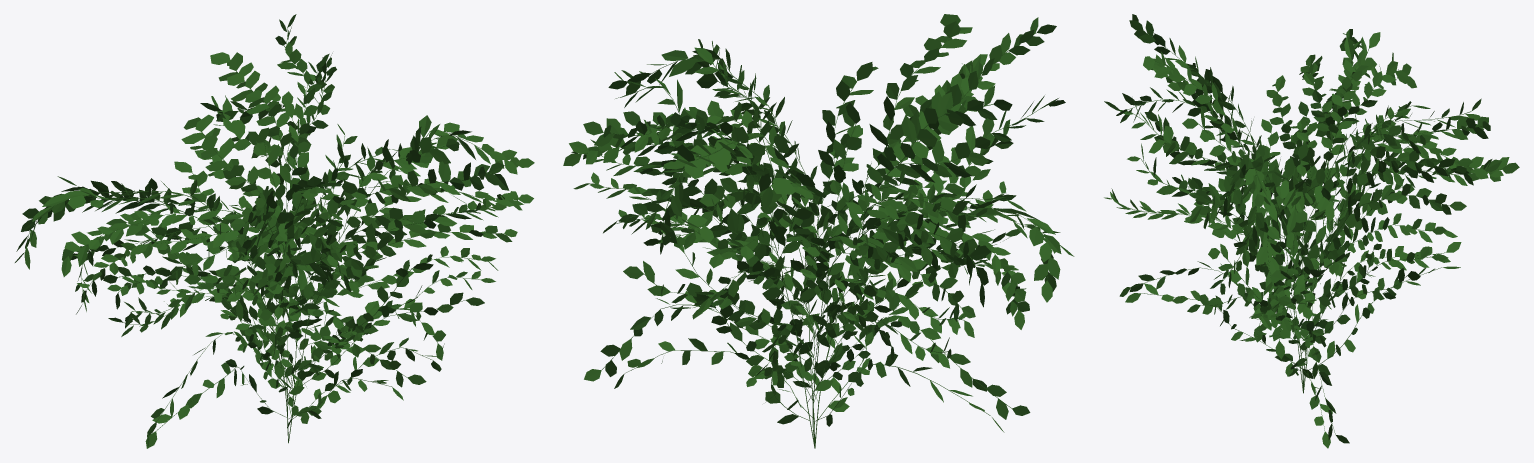
File: StressBush.fbx
The picture shows the model from 3 angles, left to right: view 1: azimuth 30°, elevation 25°; view 2: azimuth 150°, elevation 25°; view 3: azimuth 270°, elevation 25°; orthographic projection. The views are drawn at different scales.
Visible parts, largest first — view 1: StressBush; view 2: StressBush; view 3: StressBush.
Boxes of the visible parts, x1,y1,x2,y2 form: StressBush: (15,14,534,448); StressBush: (563,14,1074,448); StressBush: (1104,14,1519,448).
Bounding box in the file's own units: 415 × 284 × 331.
